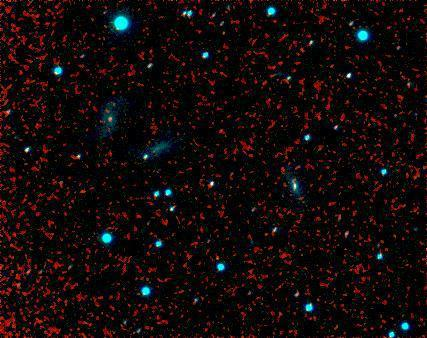star: (210, 17, 240, 47)
